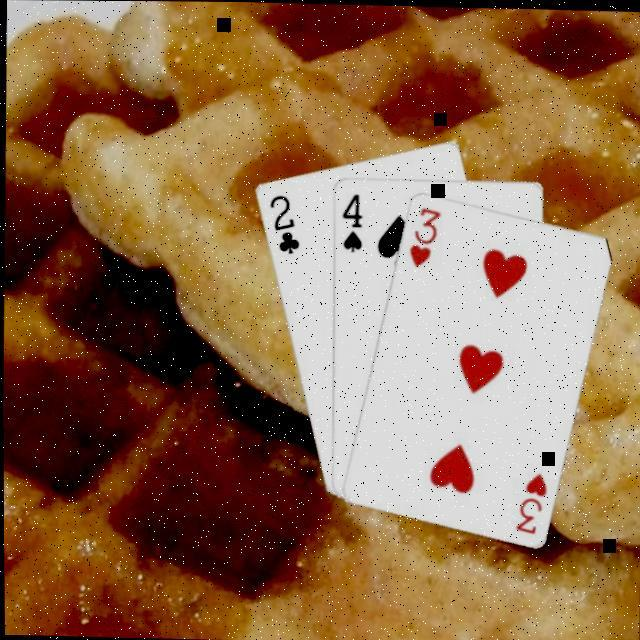2C: (263, 188, 300, 255)
3H: (508, 465, 548, 534), (402, 200, 442, 267)
4S: (336, 187, 362, 251)
